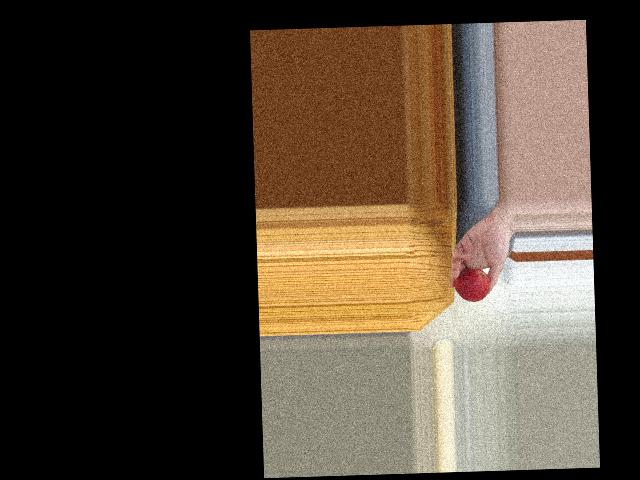apple: (454, 267, 490, 304)
